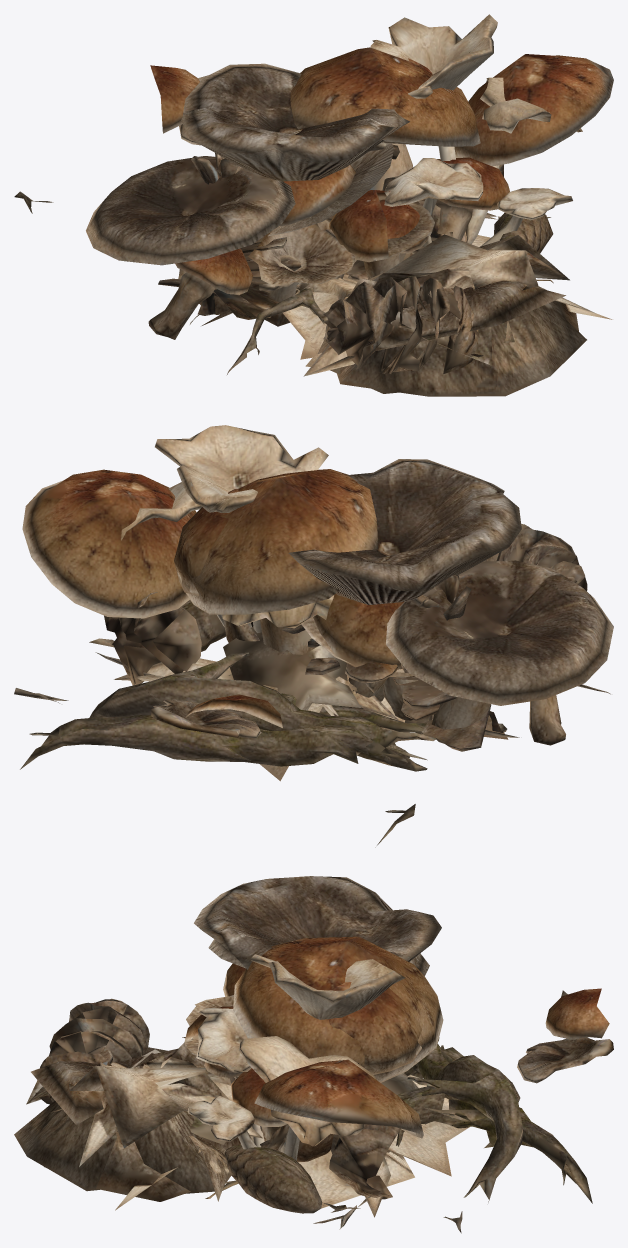
File: elements.glb
The picture shows the model from 3 angles, top to bottom: view 1: azimuth 30°, elevation 25°; view 2: azimuth 150°, elevation 25°; view 3: azimuth 270°, elevation 25°; orthographic projection. The views are drawn at different scales.
Parts seen in each view (by area): view 1: mushroom_03, moss_cluster_03, mushroom_01, mushroom_02, exposed_root_02, mushroom_04, pinecone_02, moss_cluster_01, moss_cluster_02, exposed_root_03, pinecone_01; view 2: mushroom_03, mushroom_01, mushroom_02, exposed_root_02, exposed_root_01, pinecone_02, moss_cluster_02, mushroom_04, moss_cluster_03, exposed_root_03, moss_cluster_01, pinecone_01; view 3: moss_cluster_03, mushroom_03, mushroom_02, mushroom_01, exposed_root_02, pinecone_02, moss_cluster_01, mushroom_04, moss_cluster_02, exposed_root_01, exposed_root_03.
Boxes of the visible parts, x1,y1,x2,y2 form: mushroom_03: (86,54,613,326); moss_cluster_03: (179,75,595,396); mushroom_01: (280,47,480,278); mushroom_02: (148,14,582,339); exposed_root_02: (14,191,478,374); mushroom_04: (268,58,509,274); pinecone_02: (158,153,553,319); moss_cluster_01: (150,65,612,376); moss_cluster_02: (202,213,495,359); exposed_root_03: (190,214,553,374); pinecone_01: (346,142,437,281); mushroom_03: (22,459,613,743); mushroom_01: (186,469,413,708); mushroom_02: (121,425,565,745); exposed_root_02: (14,524,587,847); exposed_root_01: (20,715,427,771); pinecone_02: (104,575,507,751); moss_cluster_02: (114,626,508,781); mushroom_04: (174,489,404,672); moss_cluster_03: (151,560,496,738); exposed_root_03: (95,652,610,737); moss_cluster_01: (185,694,282,727); pinecone_01: (279,624,357,693); moss_cluster_03: (14,1037,613,1193); mushroom_03: (186,876,441,1138); mushroom_02: (188,954,439,1160); mushroom_01: (184,936,443,1083); exposed_root_02: (40,990,587,1233); pinecone_02: (224,1124,400,1213); moss_cluster_01: (44,988,609,1210); mushroom_04: (204,982,422,1151); moss_cluster_02: (213,1073,469,1217); exposed_root_01: (35,1045,592,1203); exposed_root_03: (182,1037,469,1229).
Size of the model in its own units: 0.3262 by 0.1348 by 0.3384.
1 material, 1 textured.
